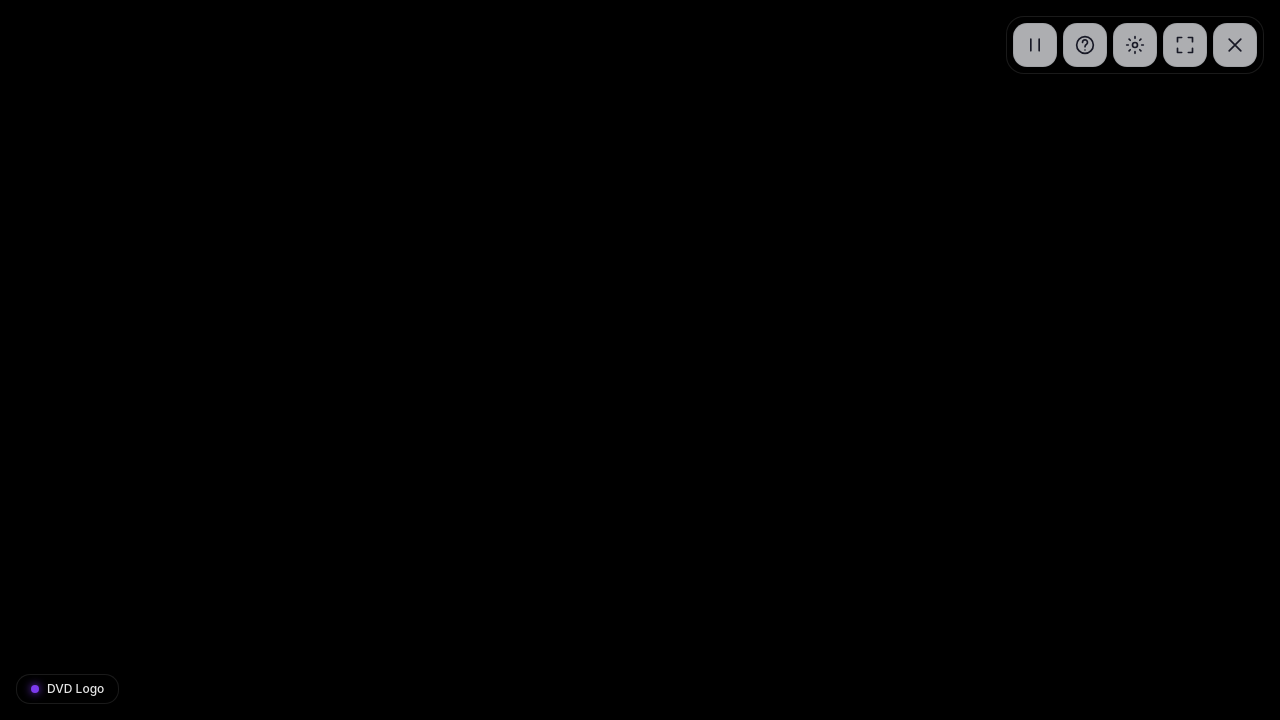
PlayerPage HUD › opens shortcuts from the HUD
The image size is (1280, 720).
Click the button named "Show keyboard shortcuts". click: (1085, 45)
box: [1063,23,1107,67]
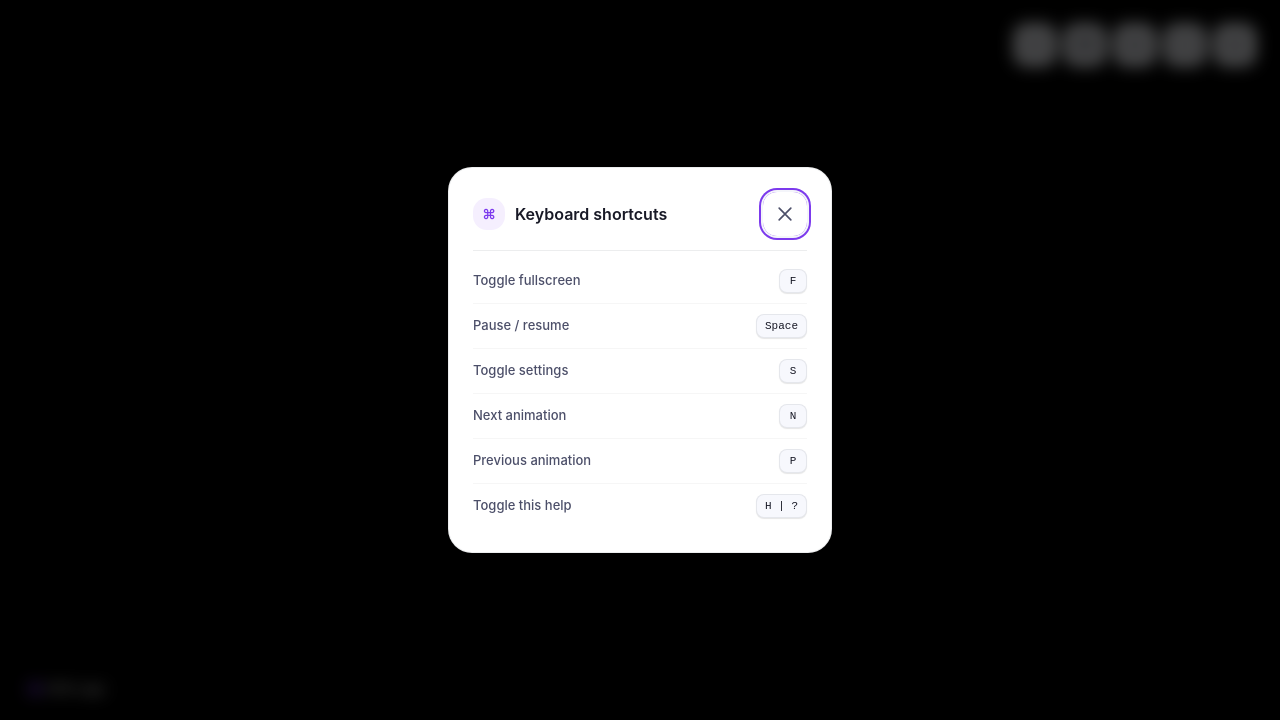
Result: the dialog "Keyboard shortcuts" is shown at [448,167,832,553]
